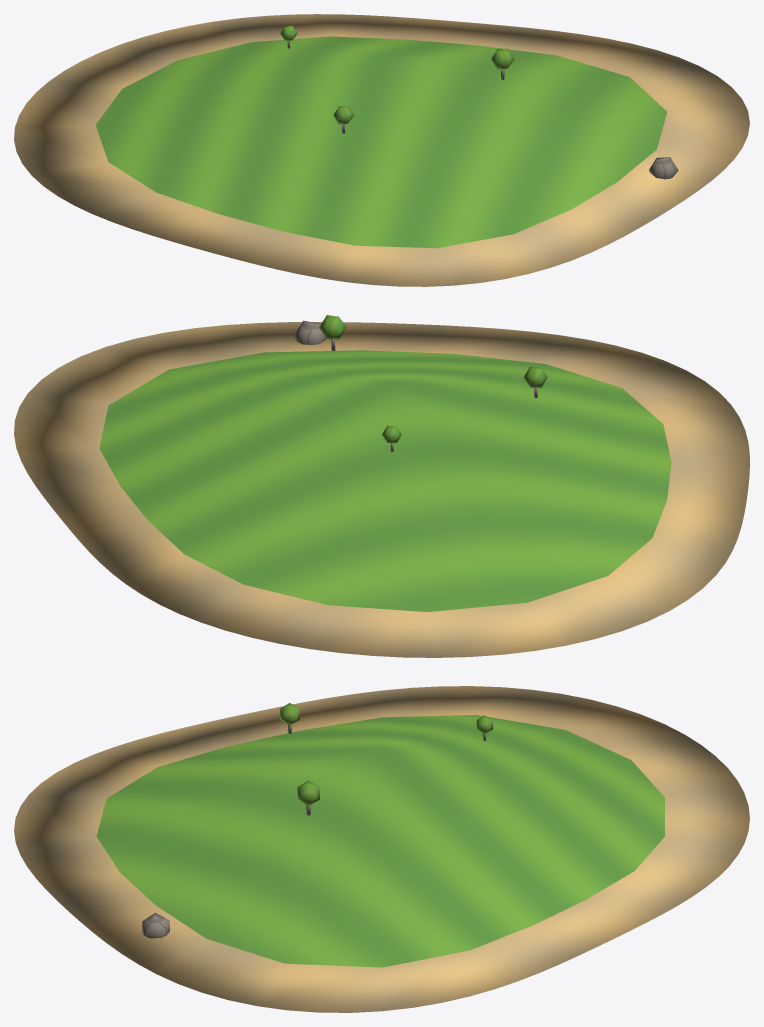
The model's file is ISL-M_LOD2.fbx.
3 renders of one model, top to bottom at view 1: azimuth 30°, elevation 25°; view 2: azimuth 150°, elevation 25°; view 3: azimuth 270°, elevation 25°, orthographic. The views are drawn at different scales.
Parts seen in each view (by area): view 1: ISL-M_LOD2; view 2: ISL-M_LOD2; view 3: ISL-M_LOD2.
Part boxes in pixels (x1=…): ISL-M_LOD2: x1=14, y1=14, x2=749, y2=286; ISL-M_LOD2: x1=14, y1=315, x2=749, y2=657; ISL-M_LOD2: x1=14, y1=686, x2=749, y2=1012.
Size of the model in its own units: 105 by 99.49 by 17.31.
